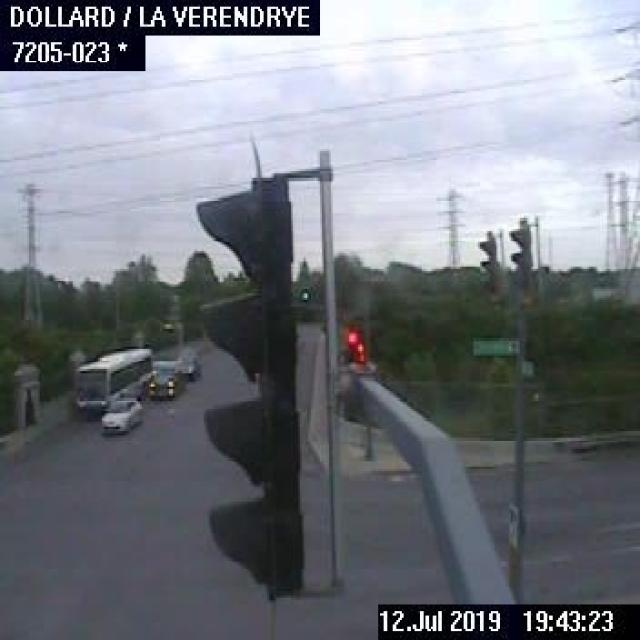bus: (76, 345, 151, 407)
vehicle: (98, 395, 141, 433), (144, 364, 186, 397), (174, 348, 202, 381)
